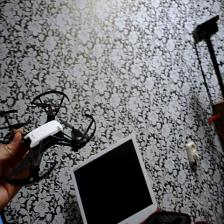drone: (0, 86, 100, 186)
